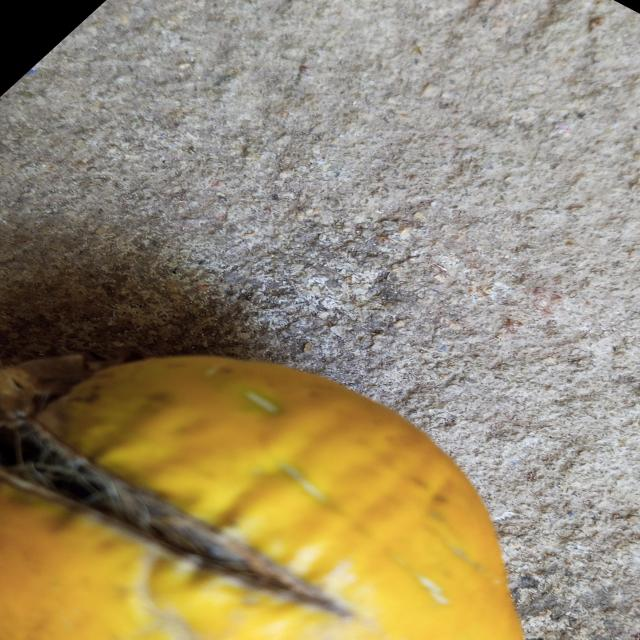damaged: (0, 355, 524, 640)
